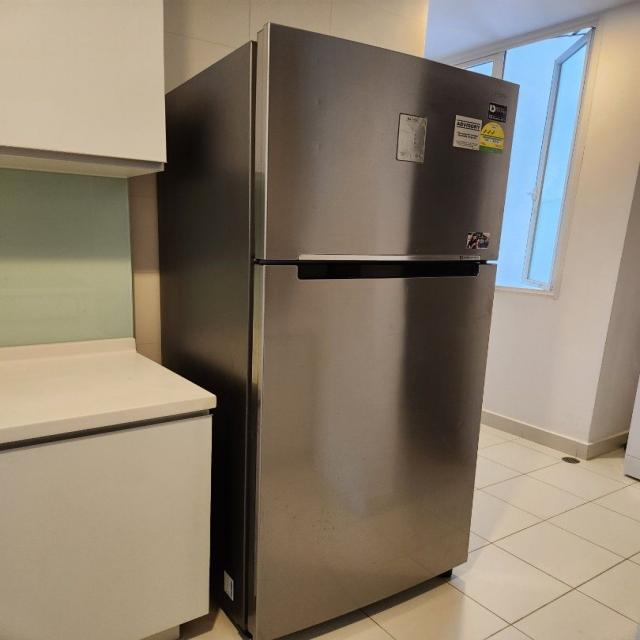refrigerator: (246, 21, 519, 640)
